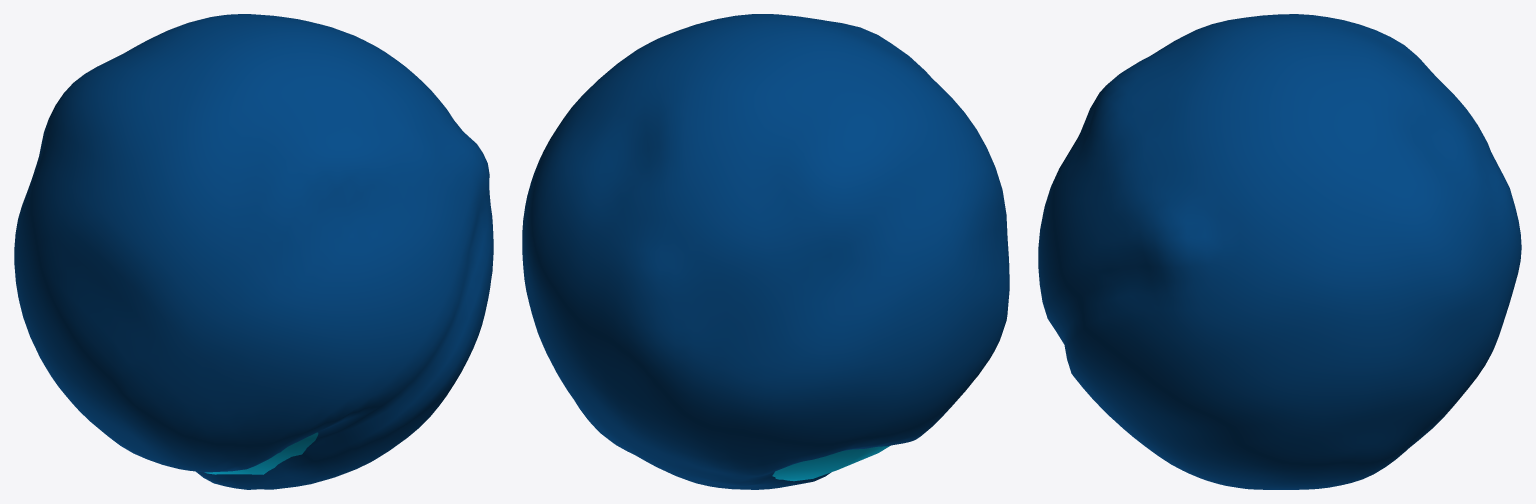
File: Planeta.fbx
The picture shows the model from 3 angles, left to right: view 1: azimuth 30°, elevation 25°; view 2: azimuth 150°, elevation 25°; view 3: azimuth 270°, elevation 25°; orthographic projection. The views are drawn at different scales.
Parts seen in each view (by area): view 1: agua; view 2: agua; view 3: agua.
Boxes of the visible parts, x1,y1,x2,y2 form: agua: (14,14,493,489); agua: (522,14,1009,489); agua: (1038,14,1521,489).
Size of the model in its own units: 29.57 by 29.6 by 30.39.
